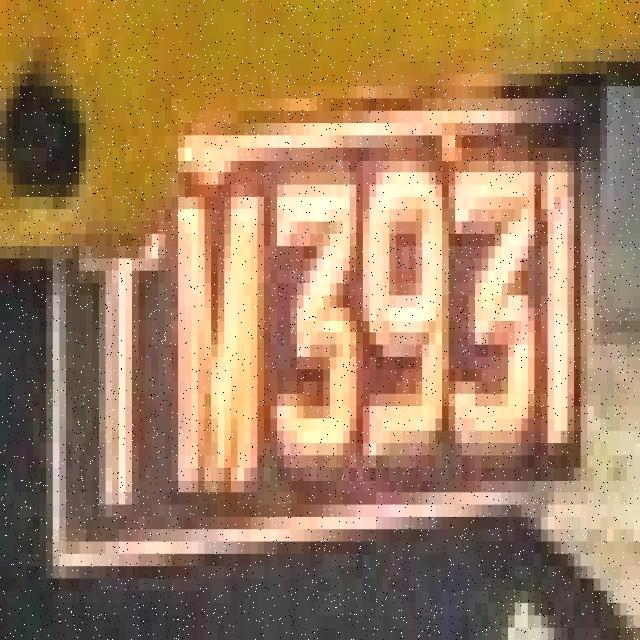licenseplate: (48, 75, 604, 580)
